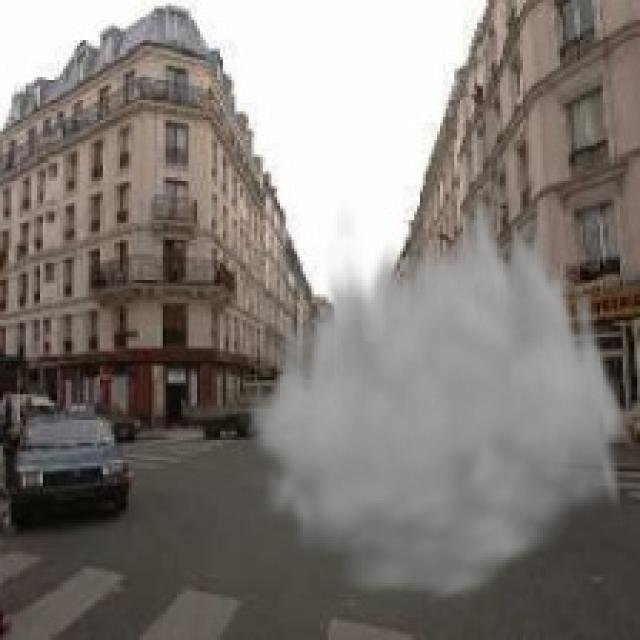smoke: (240, 192, 629, 608)
